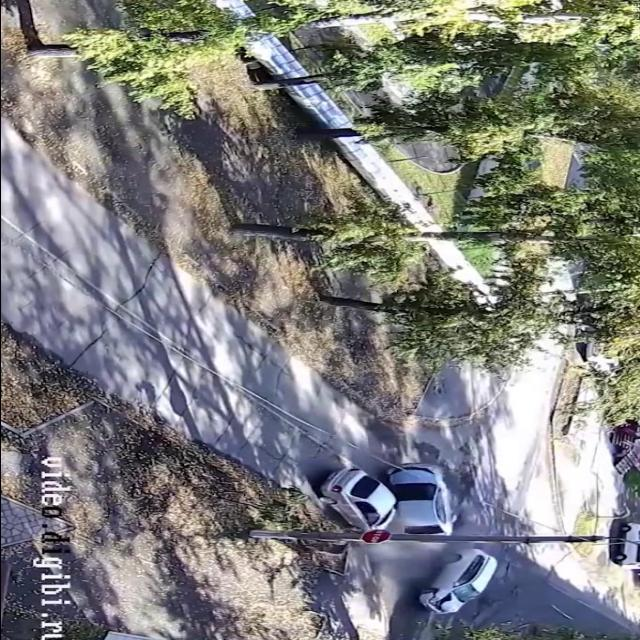accident: (305, 458, 507, 618)
